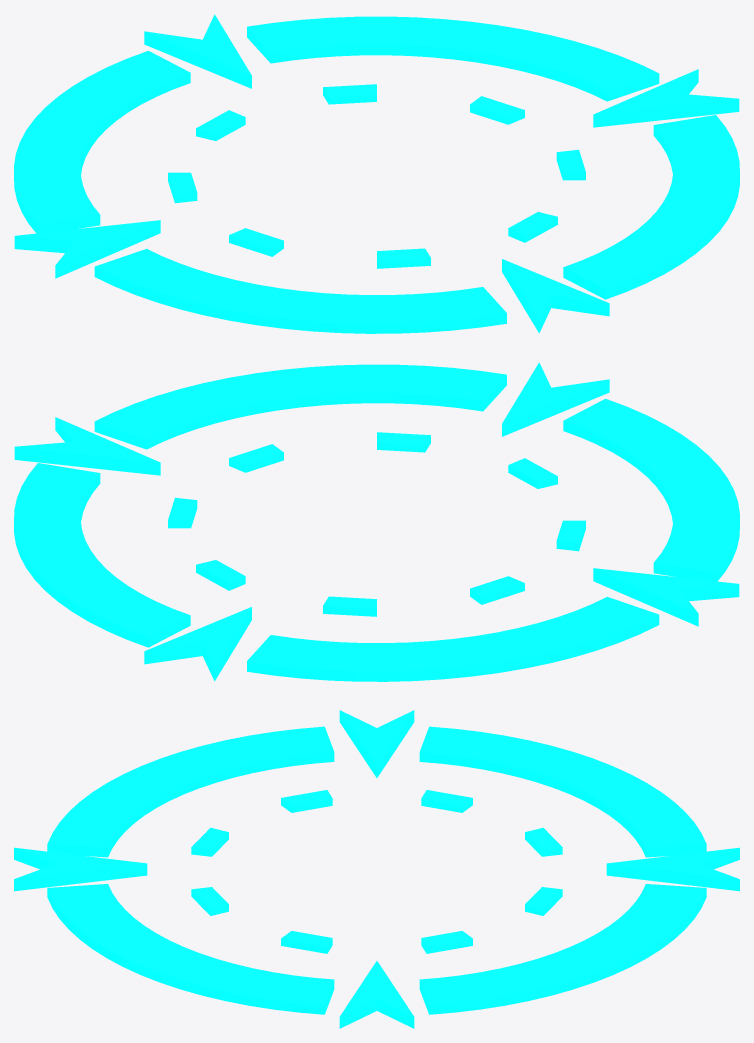
File: ReticleTargetRing.fbx
3 renders of one model, top to bottom at view 1: azimuth 30°, elevation 25°; view 2: azimuth 150°, elevation 25°; view 3: azimuth 270°, elevation 25°, orthographic. The views are drawn at different scales.
Parts seen in each view (by area): view 1: ReticleTargetRing; view 2: ReticleTargetRing; view 3: ReticleTargetRing.
Part boxes in pixels (<box>): ReticleTargetRing: <box>14,14,739,333</box>; ReticleTargetRing: <box>14,362,739,681</box>; ReticleTargetRing: <box>14,710,739,1028</box>.
Bounding box in the file's own units: 0.272 × 0.005 × 0.272.
